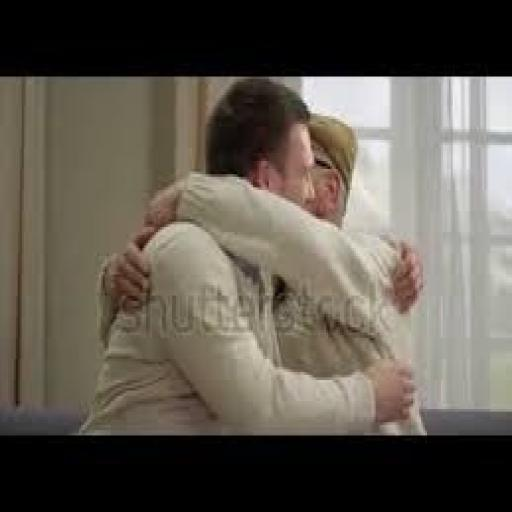hugging: (77, 82, 425, 435)
